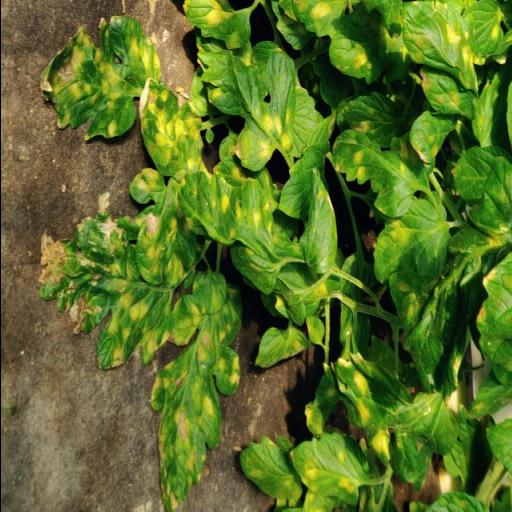disease_tomato: (38, 212, 174, 370), (150, 284, 244, 512), (330, 352, 458, 484), (37, 16, 161, 142), (175, 160, 285, 294), (196, 49, 296, 171), (128, 168, 204, 289), (331, 128, 433, 218), (372, 190, 448, 294), (136, 78, 202, 182), (288, 432, 370, 506), (238, 433, 302, 499), (298, 168, 337, 274)
